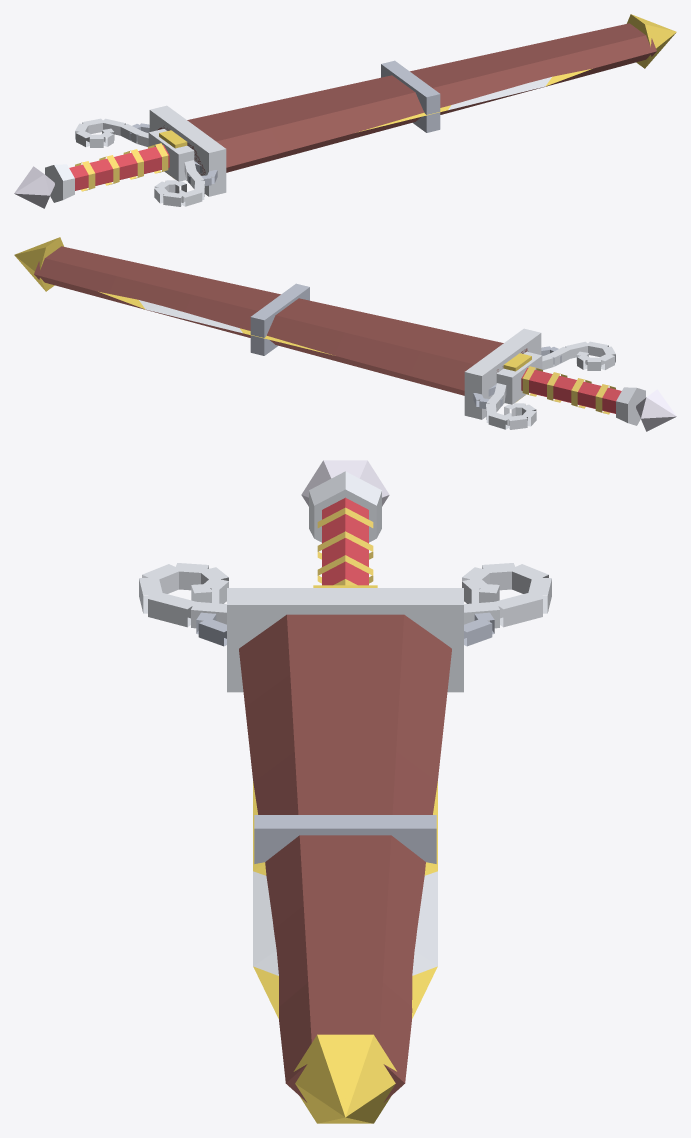
Rendered from gilded_sword.glb.
3 views of the same model, one above another, from view 1: azimuth 30°, elevation 25°; view 2: azimuth 150°, elevation 25°; view 3: azimuth 270°, elevation 25° (orthographic). The views are drawn at different scales.
Visible parts, largest first — view 1: GildedScabbard, GildedHilt, GildedBlade; view 2: GildedScabbard, GildedHilt, GildedBlade; view 3: GildedScabbard, GildedHilt, GildedBlade.
Boxes of the visible parts, bbox=[...] form: GildedScabbard: bbox=[149, 14, 676, 196]; GildedHilt: bbox=[14, 118, 217, 208]; GildedBlade: bbox=[358, 68, 592, 132]; GildedScabbard: bbox=[14, 237, 541, 419]; GildedHilt: bbox=[473, 341, 676, 431]; GildedBlade: bbox=[98, 291, 332, 355]; GildedScabbard: bbox=[227, 588, 463, 1123]; GildedHilt: bbox=[139, 460, 551, 646]; GildedBlade: bbox=[253, 781, 437, 1018].
Size of the model in its own units: 0.762 by 0.0489 by 0.2055.
